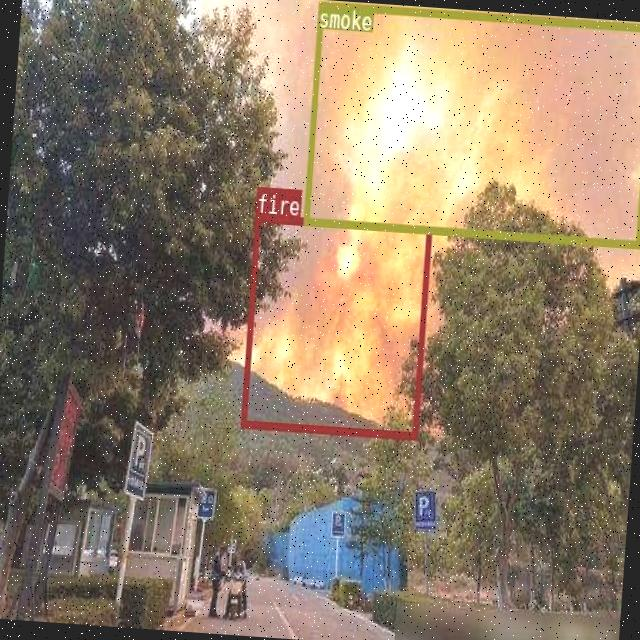fire: (238, 212, 432, 438)
smoke: (302, 0, 640, 245)
